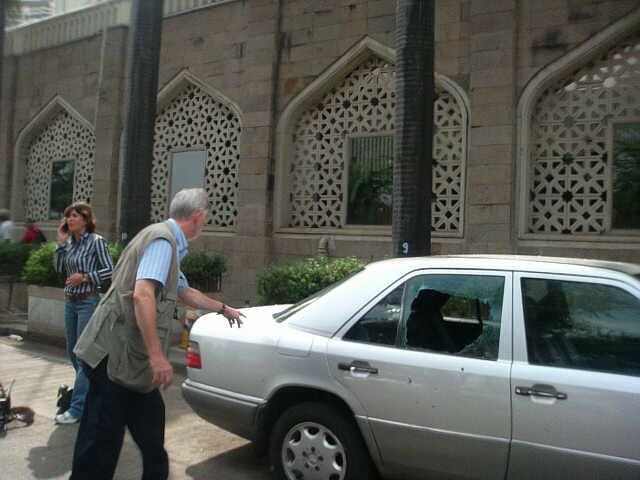doorouter-dent: (353, 269, 510, 471)
